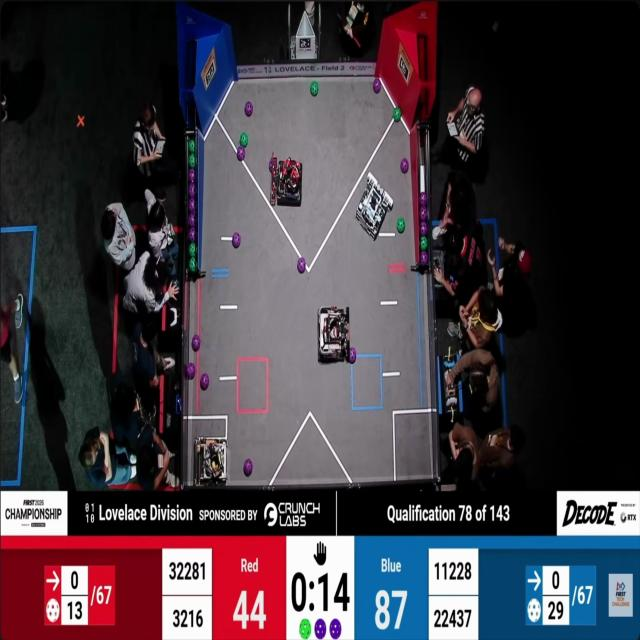artifact_green: (299, 619, 311, 639), (397, 217, 405, 233), (420, 236, 428, 251), (393, 107, 401, 122), (240, 133, 248, 147), (311, 81, 318, 96), (189, 243, 196, 257), (189, 258, 196, 272), (421, 251, 428, 265), (189, 154, 195, 168), (189, 140, 195, 153)
artifact_purple: (330, 619, 341, 639), (315, 619, 326, 639), (187, 363, 196, 379), (200, 374, 209, 390), (297, 258, 306, 274), (244, 459, 252, 476), (232, 232, 240, 248), (192, 335, 200, 351), (245, 101, 253, 117), (401, 158, 409, 173), (420, 251, 428, 266), (373, 78, 381, 93), (349, 347, 356, 364), (237, 147, 245, 161), (420, 222, 428, 236), (189, 227, 196, 242), (420, 207, 427, 221), (420, 192, 427, 206), (188, 184, 195, 197), (269, 157, 275, 172), (189, 213, 195, 227), (189, 169, 195, 183), (189, 199, 195, 212)
